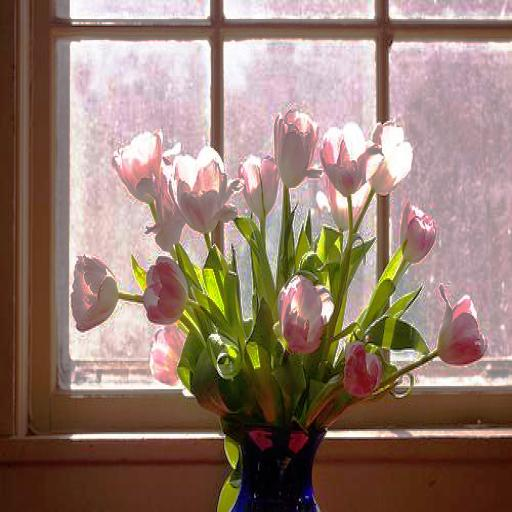tulip: (168, 146, 229, 231), (278, 274, 334, 354), (70, 250, 116, 336), (112, 124, 162, 200), (438, 288, 486, 366), (320, 118, 366, 196), (368, 118, 414, 194), (274, 107, 318, 186), (144, 254, 186, 328), (240, 156, 282, 216), (400, 202, 436, 262)
